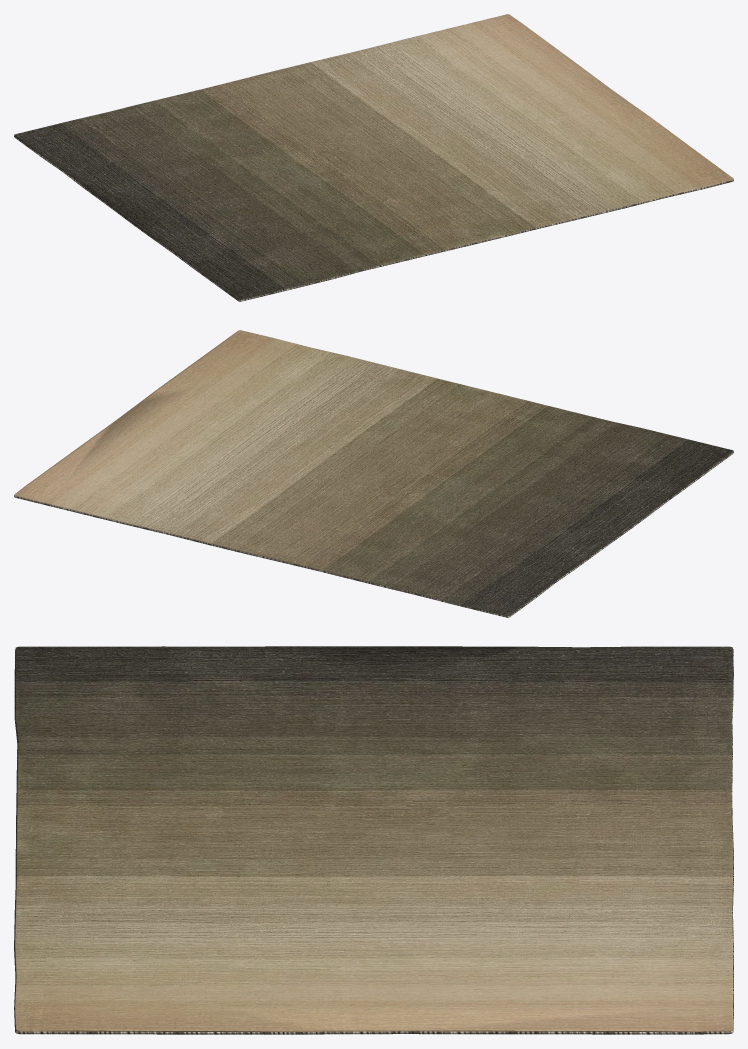
The model's file is B073F7GFKB.glb.
3 renders of one model, top to bottom at view 1: azimuth 30°, elevation 25°; view 2: azimuth 150°, elevation 25°; view 3: azimuth 270°, elevation 25°, orthographic. The views are drawn at different scales.
Parts seen in each view (by area): view 1: RootNode; view 2: RootNode; view 3: RootNode.
Boxes of the visible parts, x1,y1,x2,y2 form: RootNode: (14,14,733,301); RootNode: (14,330,733,617); RootNode: (14,646,733,1034).
Bounding box in the file's own units: 2.93 × 0.0155 × 2.32.
Materials: 1 (1 with a texture image).
